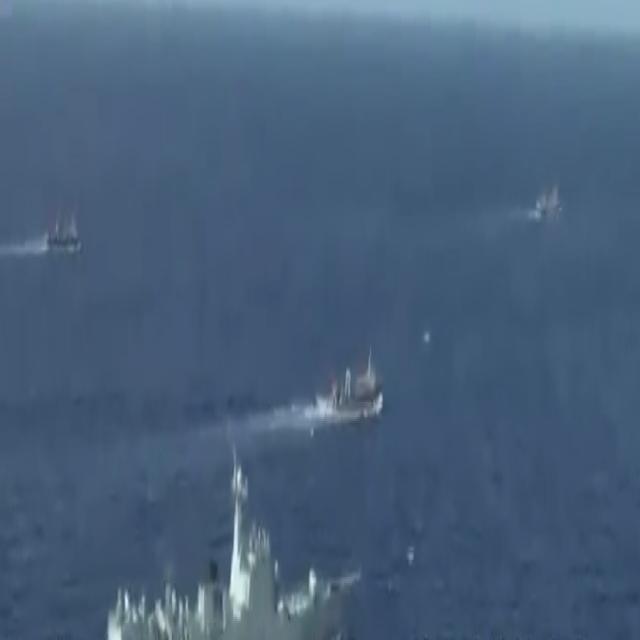cargoship: (320, 331, 384, 424), (42, 197, 86, 258), (526, 184, 568, 234)
navalvessels: (101, 445, 356, 640)
